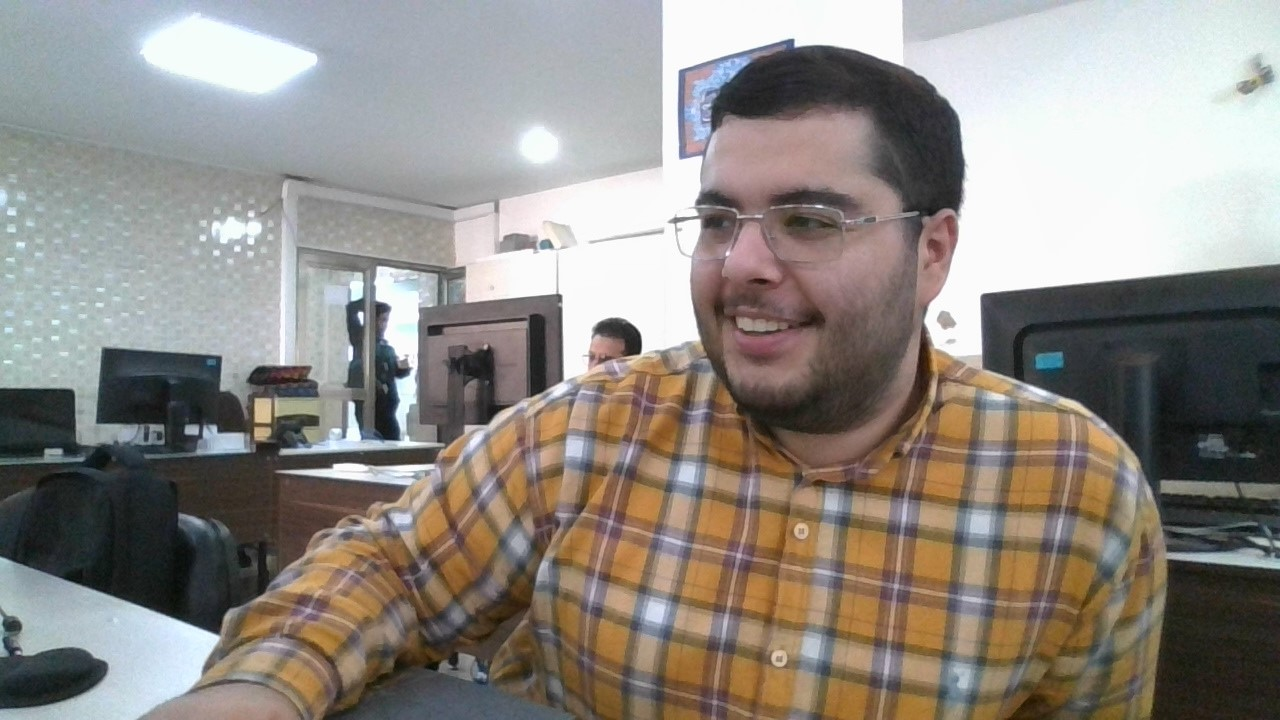NoMask: (691, 244, 917, 417)
